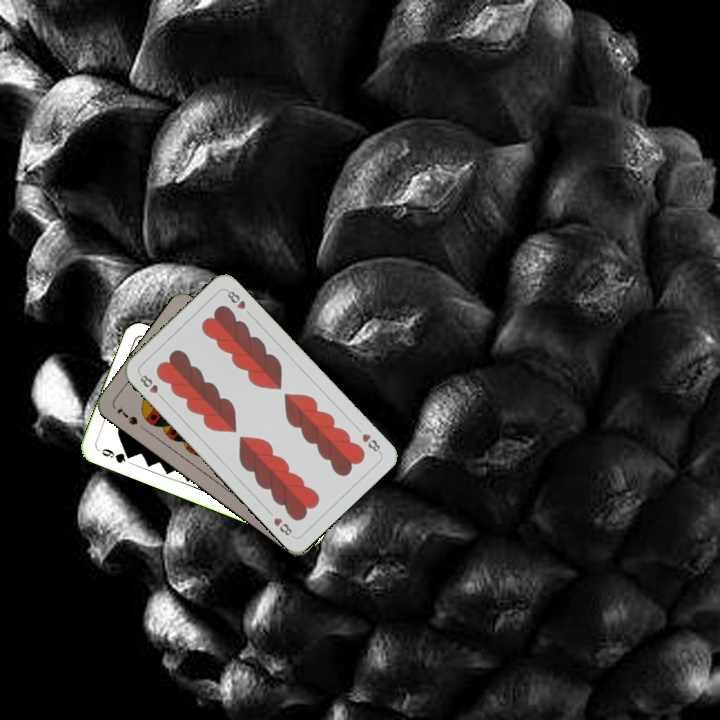G9: (97, 444, 135, 466)
H8: (135, 370, 167, 402), (358, 429, 384, 456)
S7: (112, 403, 140, 427)
